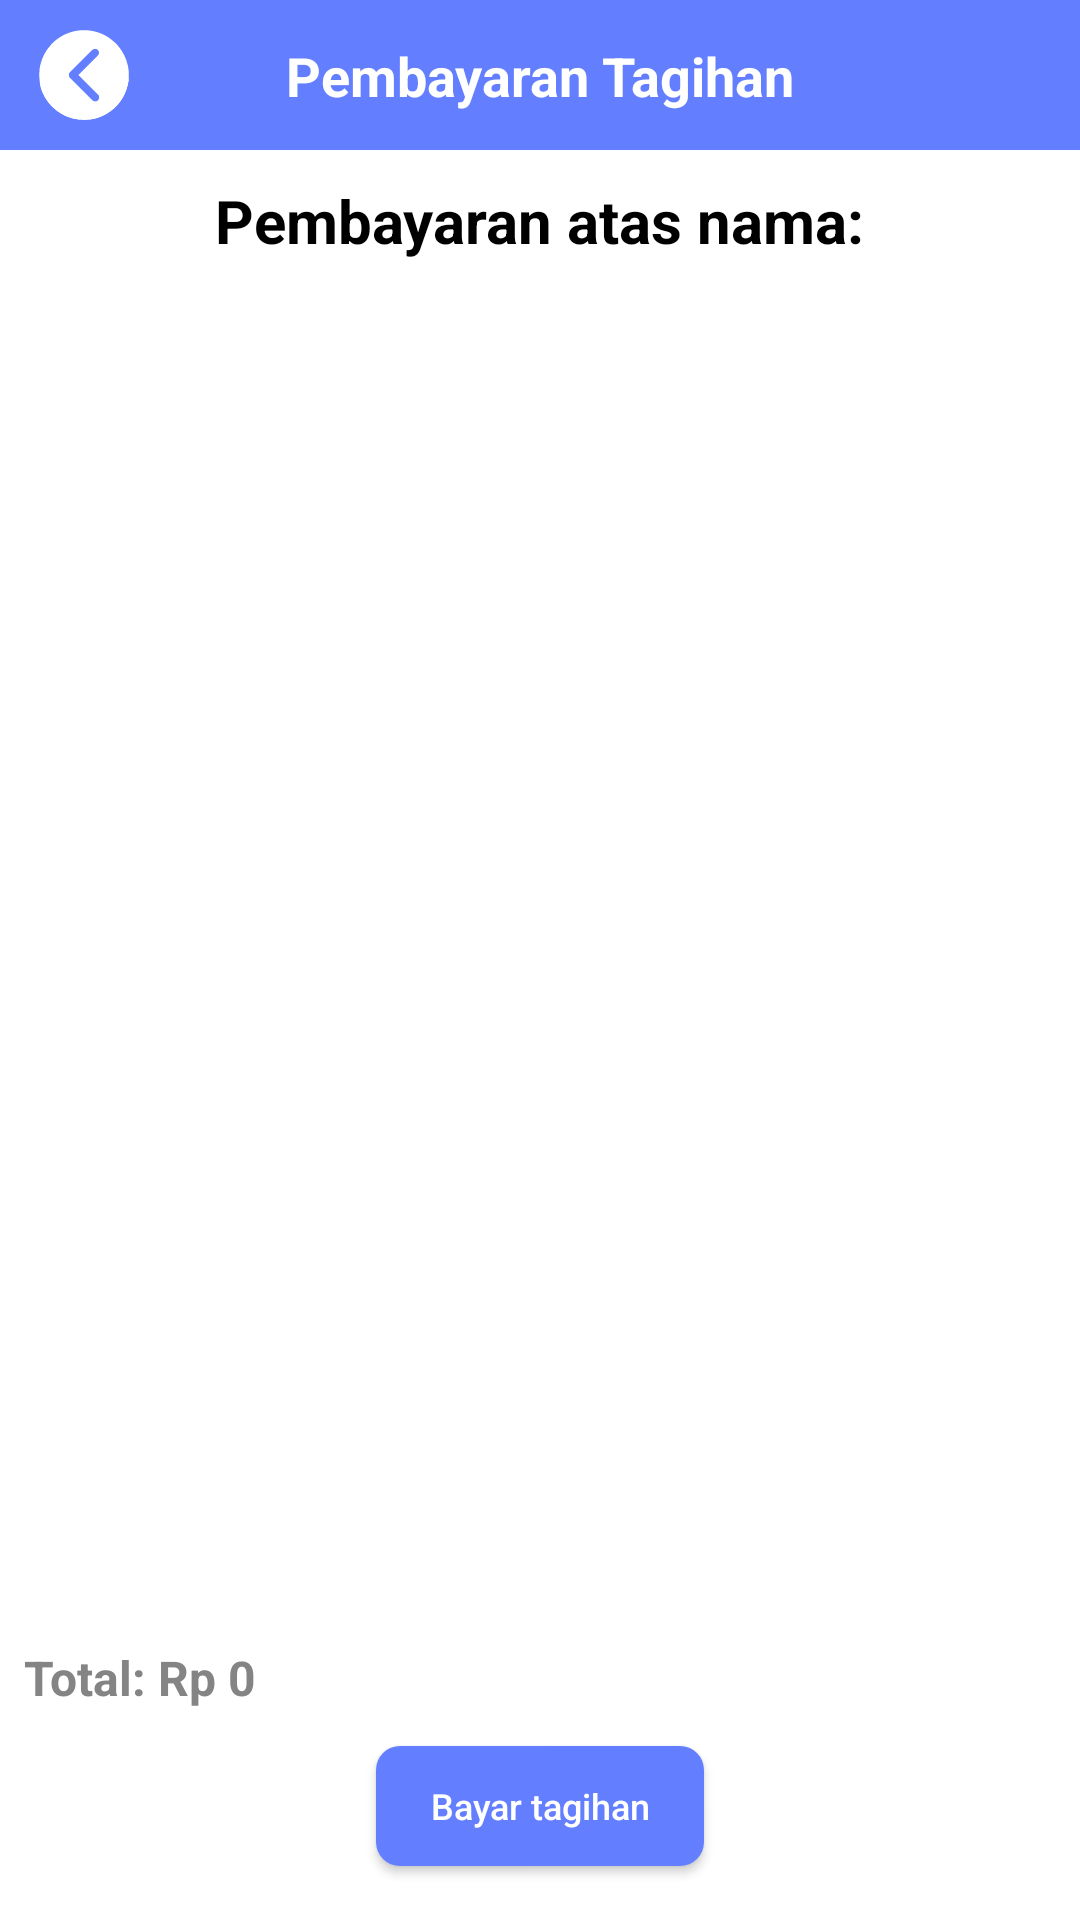

Where to tap for icons on this 1080px×1920px app screen, as [x,y]:
Kembali: [84,75]
